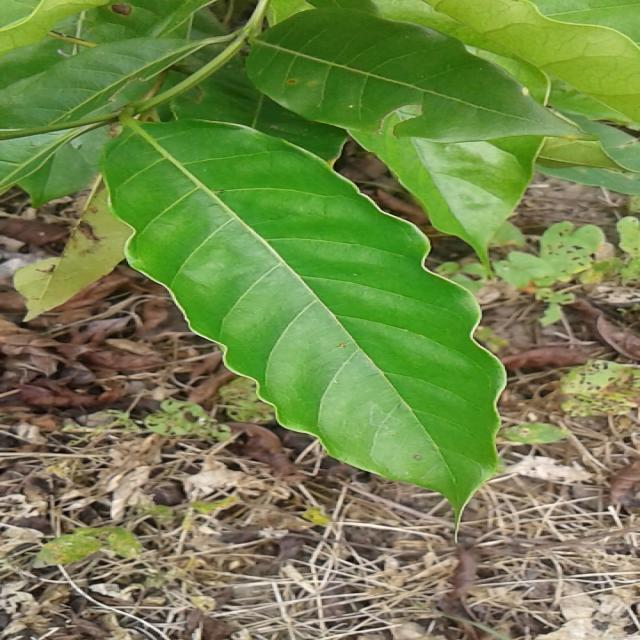Sanas: (99, 116, 508, 513)
